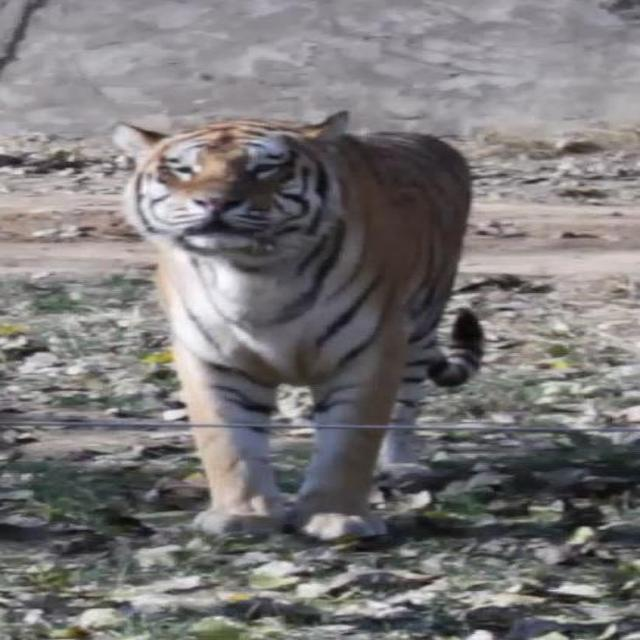tiger: (79, 90, 525, 559)
